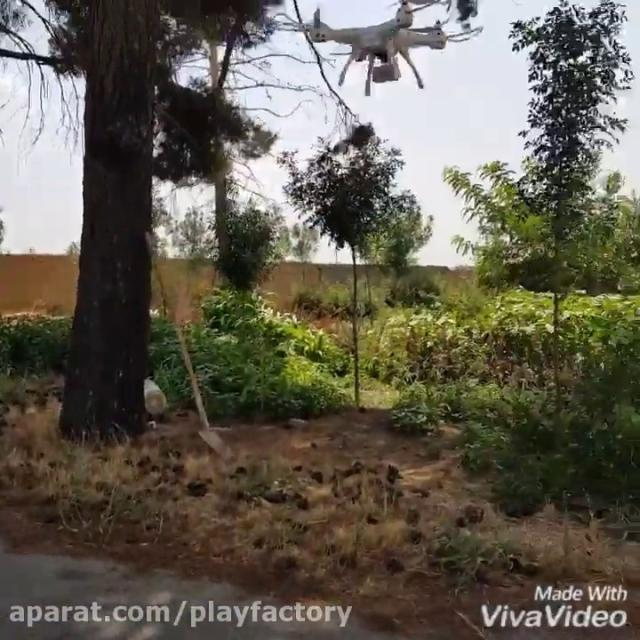drone: (269, 0, 487, 95)
